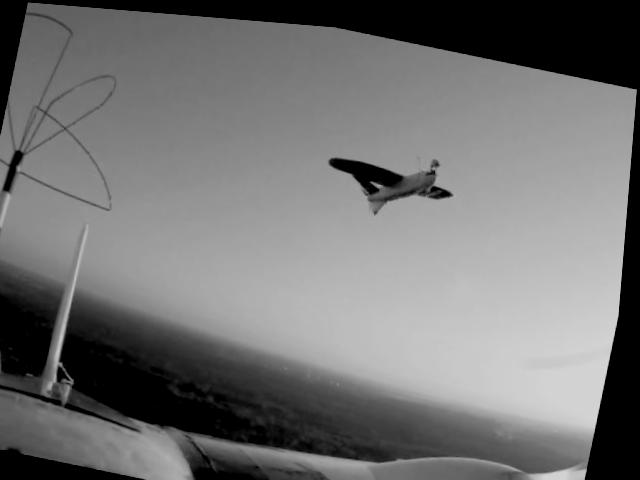hedef: (310, 117, 479, 235)
